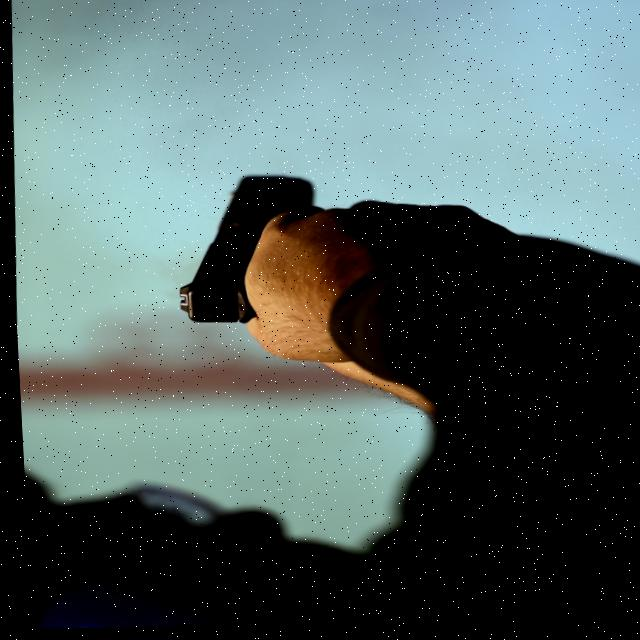pistol: (166, 168, 323, 330)
